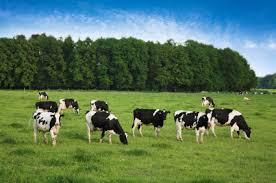cow: (84, 109, 130, 145), (205, 108, 252, 140), (173, 110, 214, 144), (31, 109, 65, 147), (131, 108, 171, 138), (57, 98, 82, 117), (35, 101, 60, 114), (90, 100, 109, 113), (201, 96, 216, 108), (37, 90, 49, 101)
